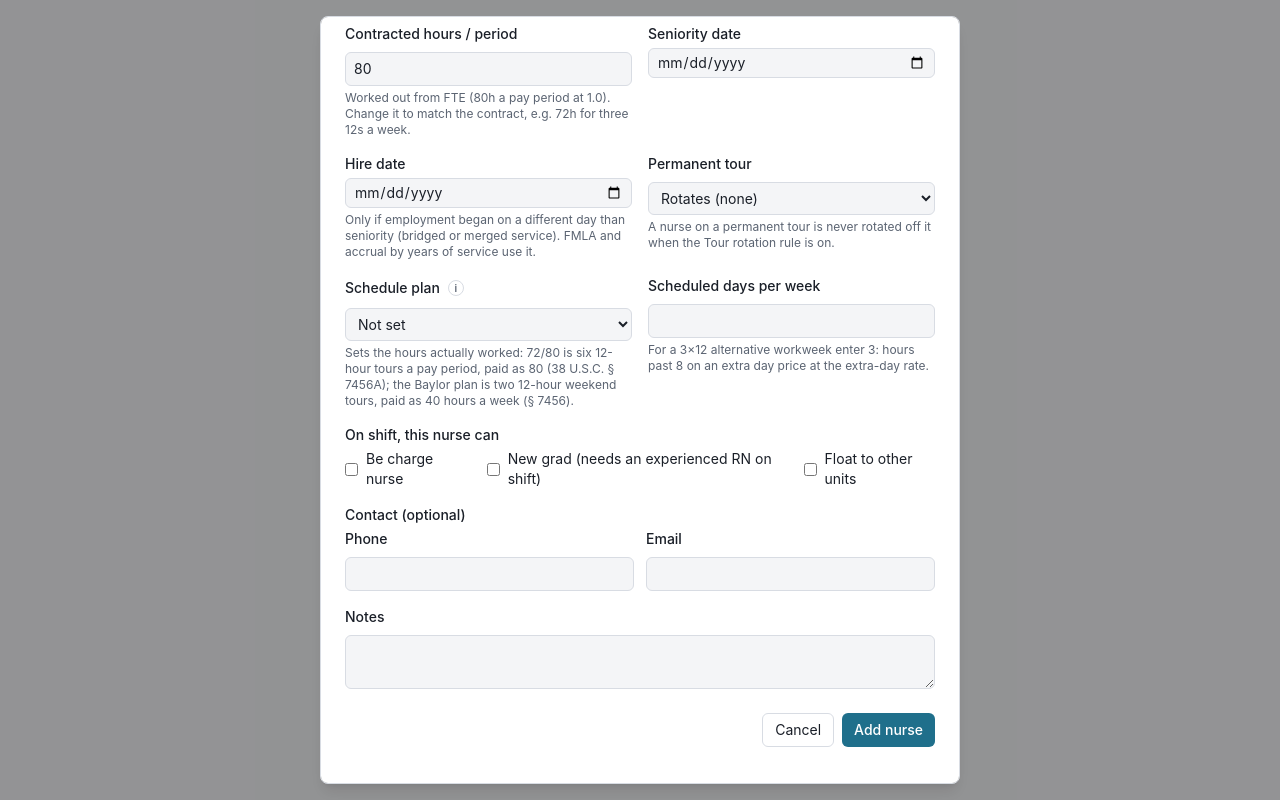
Test: the nurse form › ties each error to its box and puts the cursor in the first one
The width and height of the screenshot is (1280, 800).
(page scrolled)
Click the button "Add nurse" at (889, 730), box [842,713,935,747]
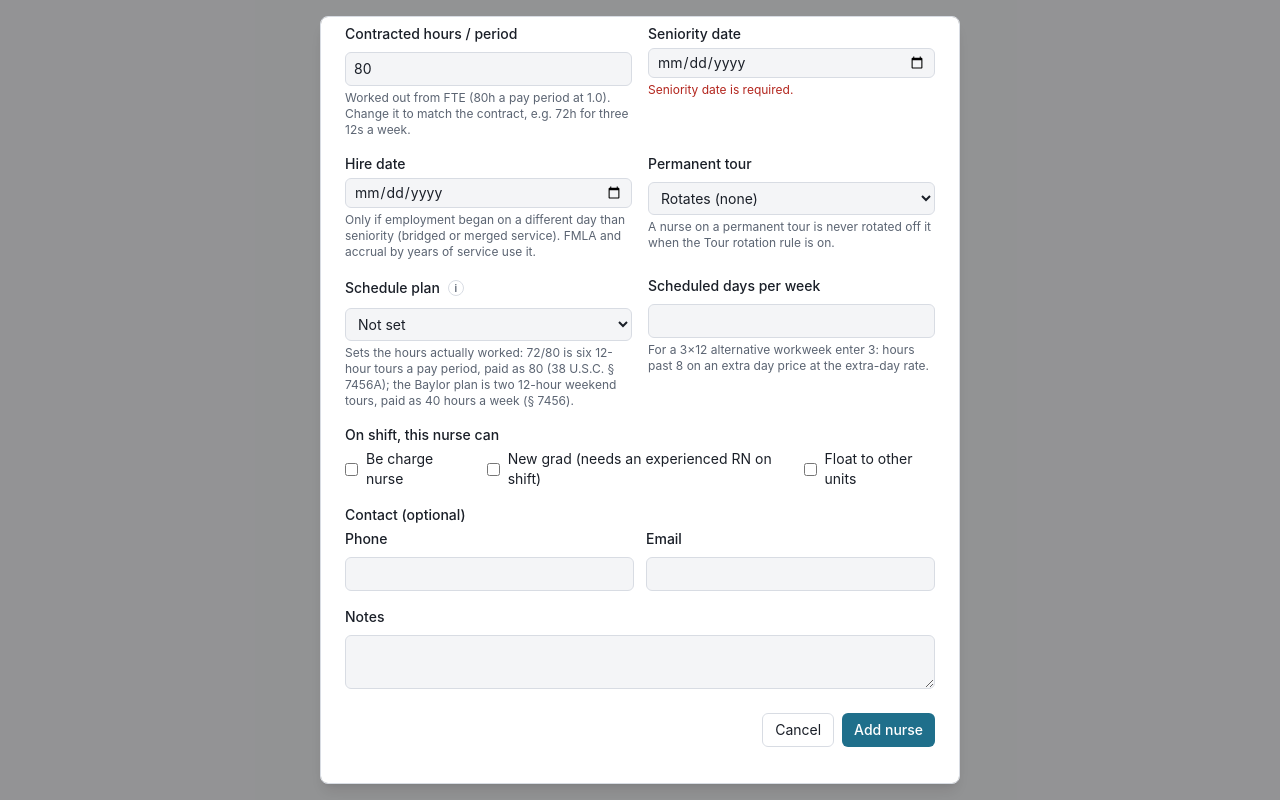
Check: the message "Seniority date is required." is shown, box [648,82,793,97]
